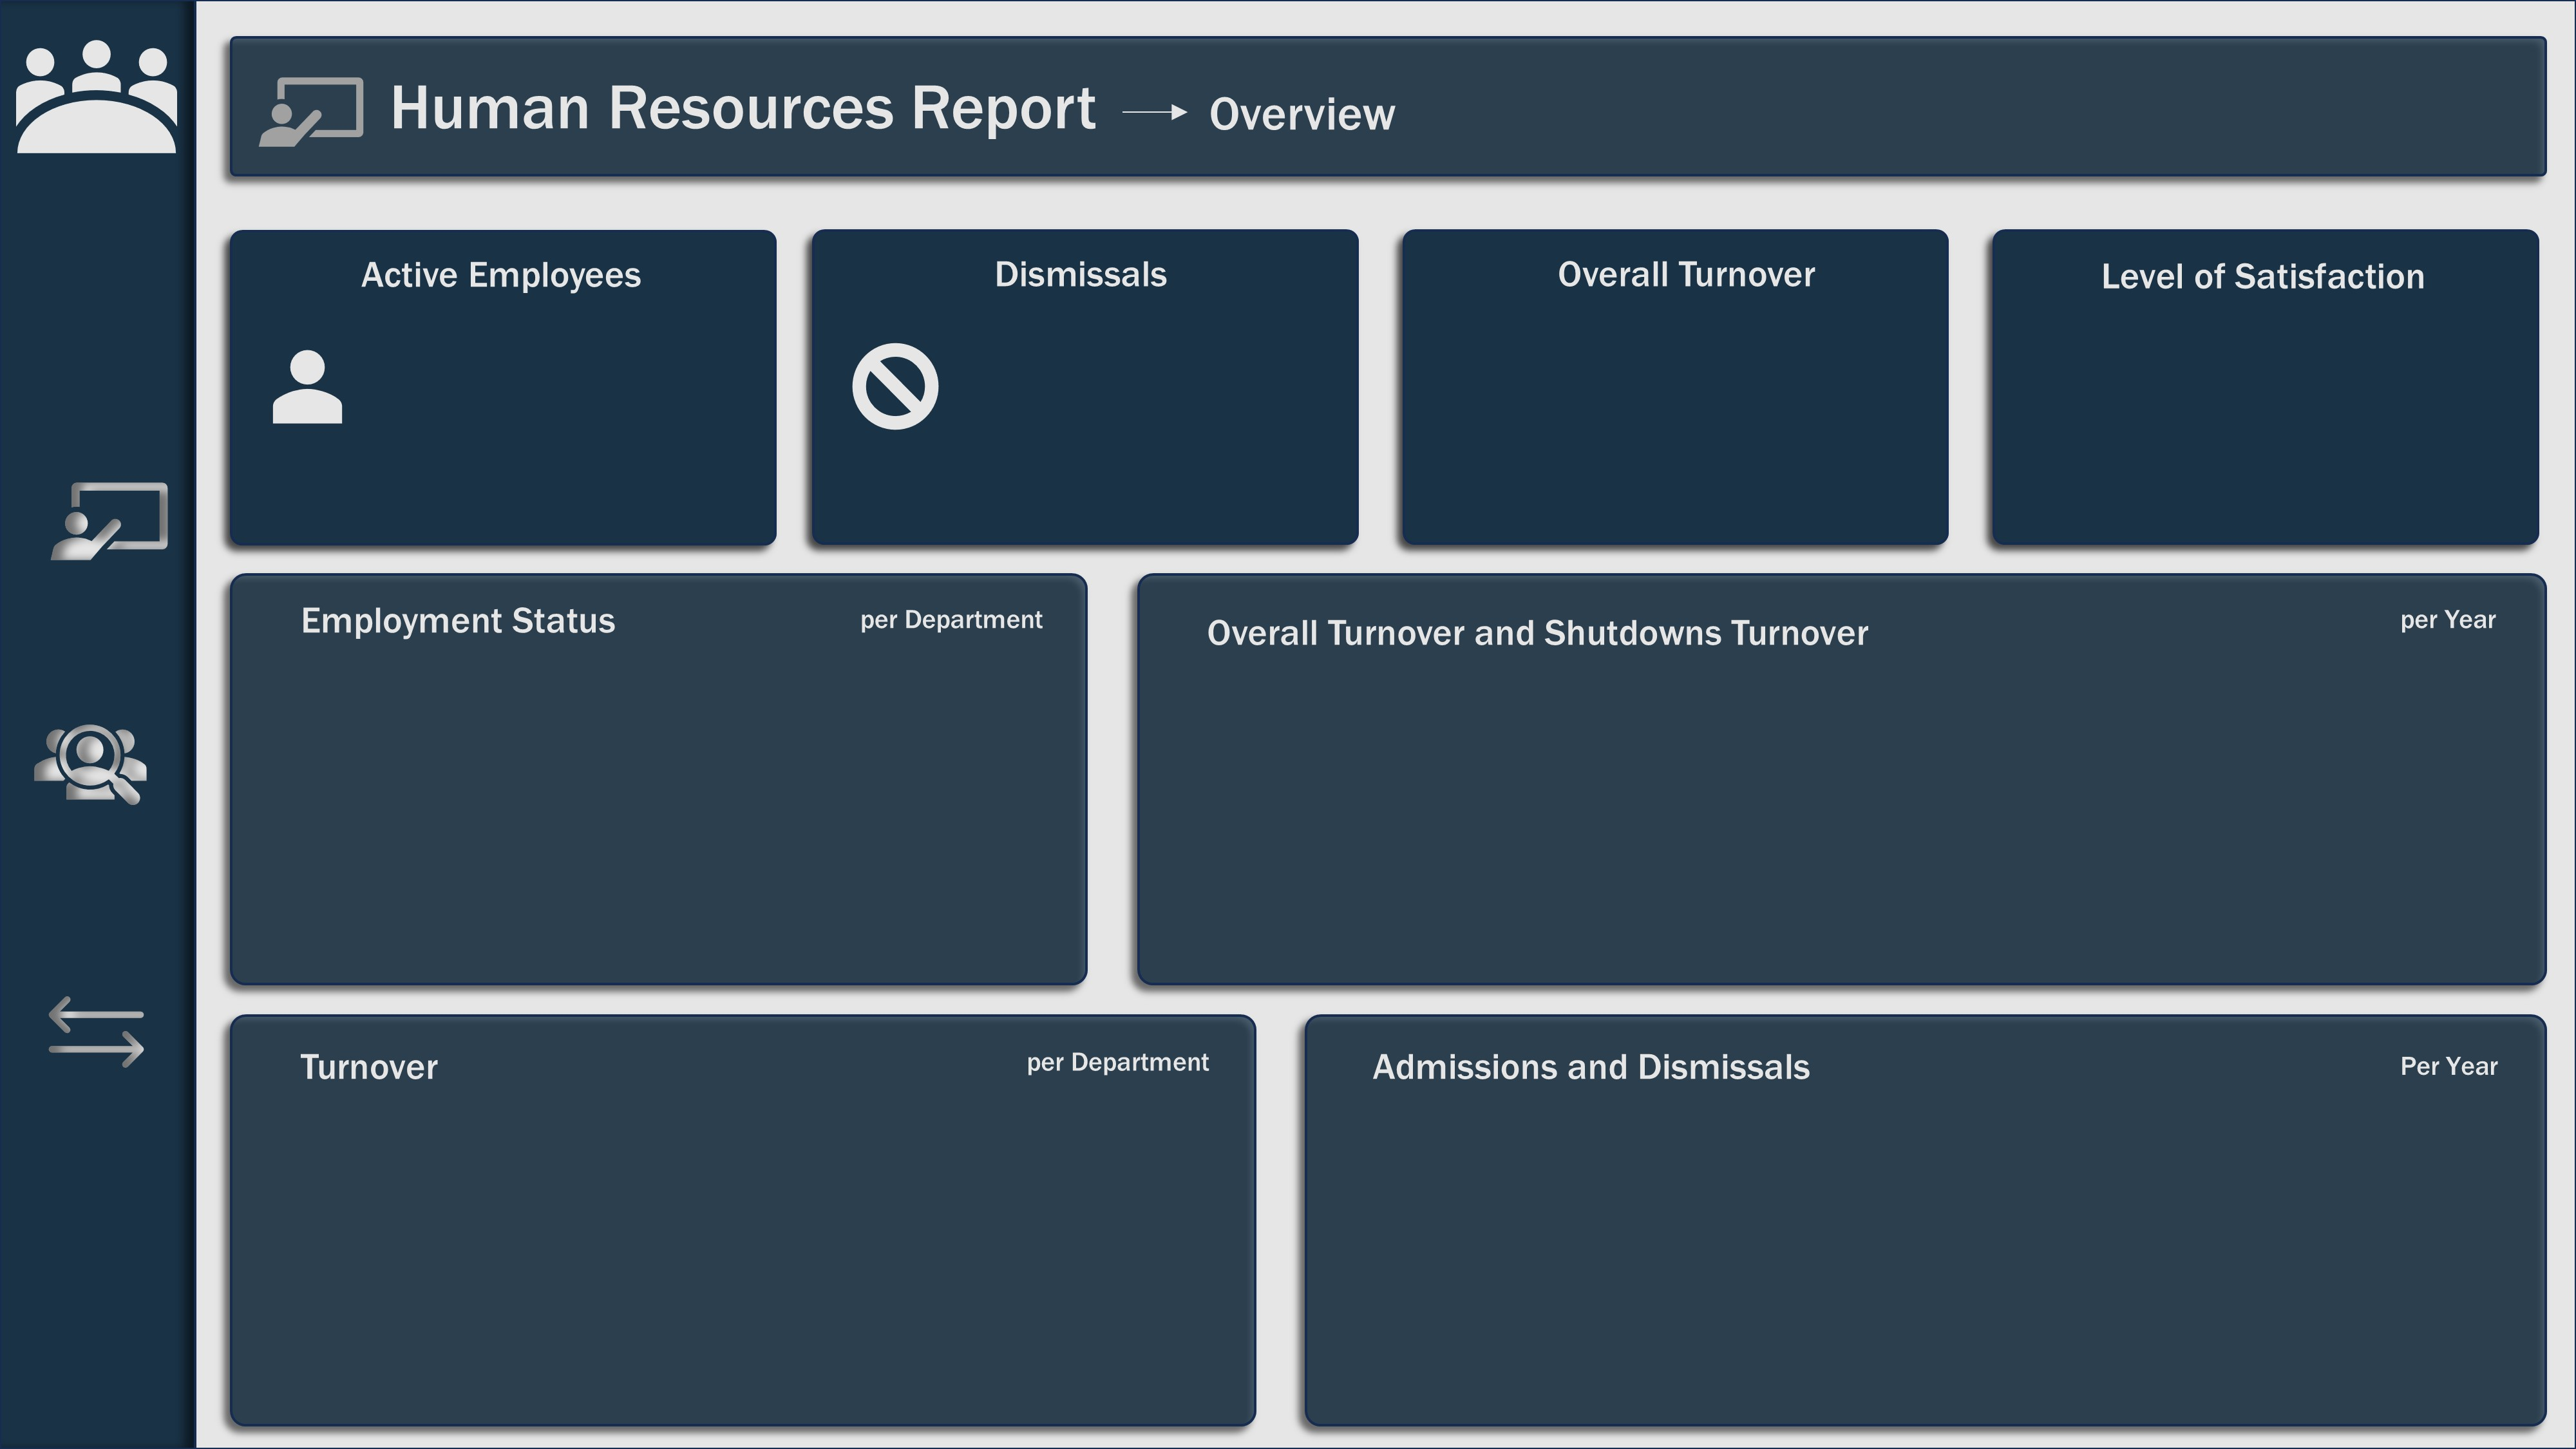

This screenshot's page, from the dashboard's own definition file:
{"tool":"powerbi","page":{"name":"Visão Geral","canvas":[1280,720],"ordinal":0},"visuals":[{"type":"card","fields":{"Values":["Tabela de Medidas.funcionários ativos"]},"box":[199.3,154.8,118,64.8],"z":0},{"type":"card","fields":{"Values":["Tabela de Medidas.Desligamentos"]},"box":[493.4,155.8,100.6,63.9],"z":1000},{"type":"kpi","fields":{"Indicator":["Tabela de Medidas.TurnoverGeral"],"Goal":["Tabela de Medidas.MetaTurnoverGeral"],"TrendLine":["Tb_Calendario.Ano"]},"box":[699.5,155.8,266.1,112.2],"z":2000},{"type":"hundredPercentStackedBarChart","fields":{"Category":["dDesligamentos.Department"],"Series":["dDesligamentos.EmploymentStatus"],"Y":["CountNonNull(dDesligamentos.TermReason)"]},"box":[114.2,322.2,406.3,169.3],"z":3000},{"type":"areaChart","fields":{"Y":["Tb_Medidas.TurnoverGeral","Tb_Medidas.TurnoverDesligamentos"],"Category":["Tb_Calendario.Ano"]},"box":[567.9,322.2,693.7,169.3],"z":4000},{"type":"columnChart","fields":{"Y":["Medidas.Admissões","Medidas.Desligamentos Valor Negativo"],"Category":["Tb_Calendario.Ano"]},"box":[652.1,533.1,609.5,172.2],"z":5000},{"type":"columnChart","fields":{"Category":["dContratacoes.Department"],"Y":["Medidas.turnoverGeral"]},"box":[104.5,524.4,525.4,180.9],"z":6000},{"type":"ratingsvisual001","fields":{"measure":["Medidas.satisfacaoFuncionarios"]},"box":[1008.1,155.8,253.5,112.2],"z":7000},{"type":"image","box":[9.7,336.7,69.7,85.1],"z":8000},{"type":"image","box":[16.4,479.9,62.9,66.8],"z":9000}]}

Visuals, with their boxes on the page's 1280x720 design canvas (x1, y1, x2, y2). These are canvas units, not pixel positions in the 2576x1449 screenshot, which may show the page scaled, cropped or inside an application window:
card - Tabela de Medidas.funcionários ativos: 199:155:317:220
card - Tabela de Medidas.Desligamentos: 493:156:594:220
kpi - Tabela de Medidas.TurnoverGeral x Tabela de Medidas.MetaTurnoverGeral: 700:156:966:268
hundredPercentStackedBarChart - dDesligamentos.Department x dDesligamentos.EmploymentStatus: 114:322:520:492
areaChart - Tb_Medidas.TurnoverGeral x Tb_Medidas.TurnoverDesligamentos: 568:322:1262:492
columnChart - Medidas.Admissões x Medidas.Desligamentos Valor Negativo: 652:533:1262:705
columnChart - dContratacoes.Department x Medidas.turnoverGeral: 104:524:630:705
ratingsvisual001 - Medidas.satisfacaoFuncionarios: 1008:156:1262:268
image: 10:337:79:422
image: 16:480:79:547
